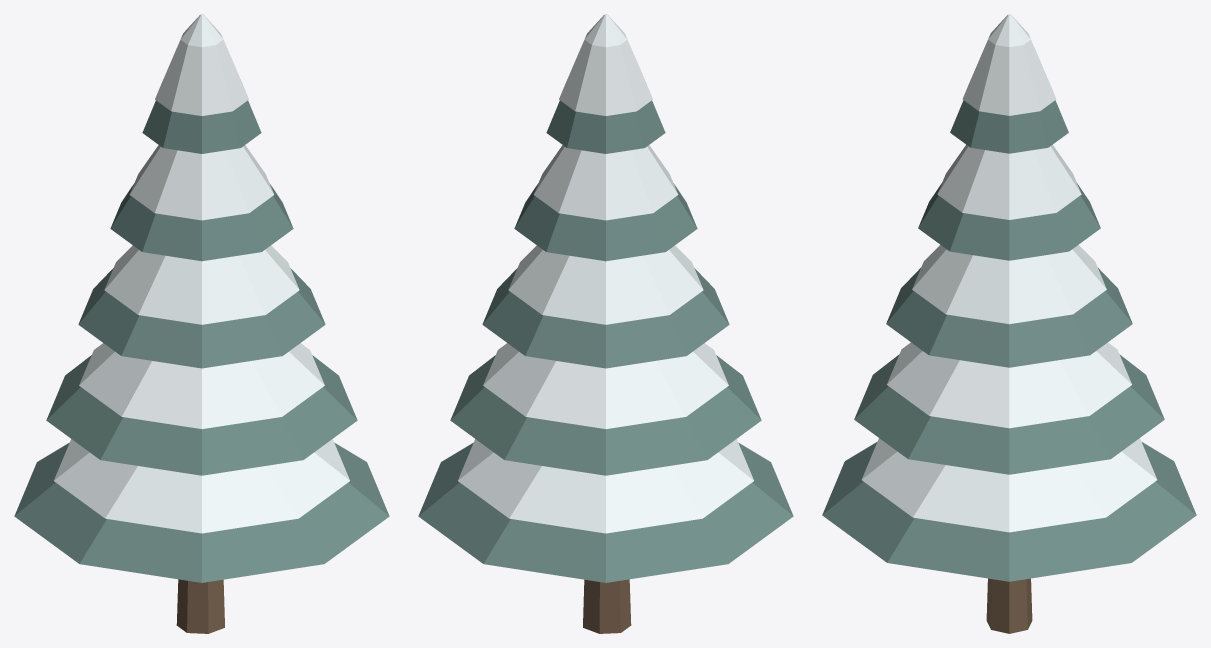
Rendered from snow-pine.glb.
3 views of the same model, side by side, from view 1: azimuth 30°, elevation 25°; view 2: azimuth 150°, elevation 25°; view 3: azimuth 270°, elevation 25° (orthographic).
Visible parts, largest first — view 1: Evergreen skirt, Heavy snow cap, Pine trunk; view 2: Evergreen skirt, Heavy snow cap, Pine trunk; view 3: Evergreen skirt, Heavy snow cap, Pine trunk.
Part boxes in pixels (bbox=[...]): Evergreen skirt: bbox=[14, 100, 389, 582]; Heavy snow cap: bbox=[54, 14, 349, 533]; Pine trunk: bbox=[176, 579, 224, 633]; Evergreen skirt: bbox=[418, 100, 793, 582]; Heavy snow cap: bbox=[458, 14, 753, 533]; Pine trunk: bbox=[583, 579, 631, 633]; Evergreen skirt: bbox=[822, 100, 1196, 581]; Heavy snow cap: bbox=[861, 14, 1157, 532]; Pine trunk: bbox=[986, 578, 1032, 633].
Size of the model in its own units: 3.3 by 6 by 3.35.
